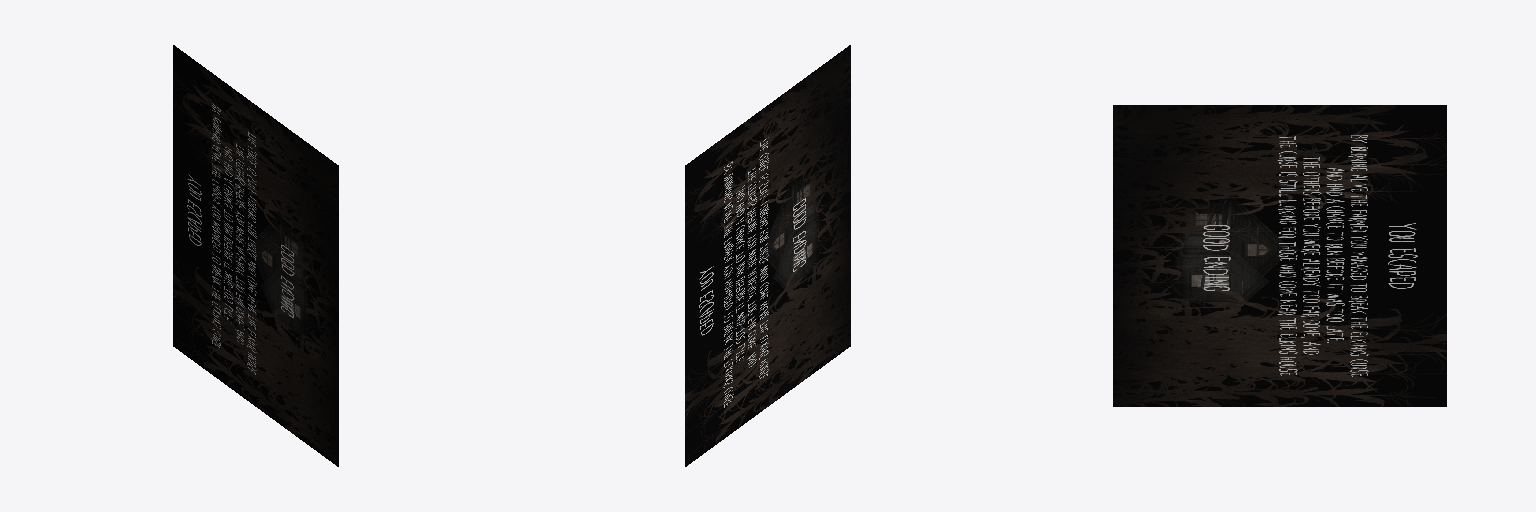
3 renders of one model, left to right at view 1: azimuth 30°, elevation 25°; view 2: azimuth 150°, elevation 25°; view 3: azimuth 270°, elevation 25°, orthographic.
Visible parts, largest first — view 1: Plane; view 2: Plane; view 3: Plane.
Boxes of the visible parts, <box> form: Plane: <box>173,45,338,466</box>; Plane: <box>685,45,850,466</box>; Plane: <box>1113,105,1446,406</box>.
Bounding box in the file's own units: 0 × 2 × 2.
1 materials, 1 textured.